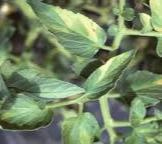Tomato mold leaf: (25, 0, 110, 57), (85, 42, 142, 99), (0, 91, 59, 129), (120, 68, 162, 108), (62, 107, 102, 144), (143, 0, 162, 26)
